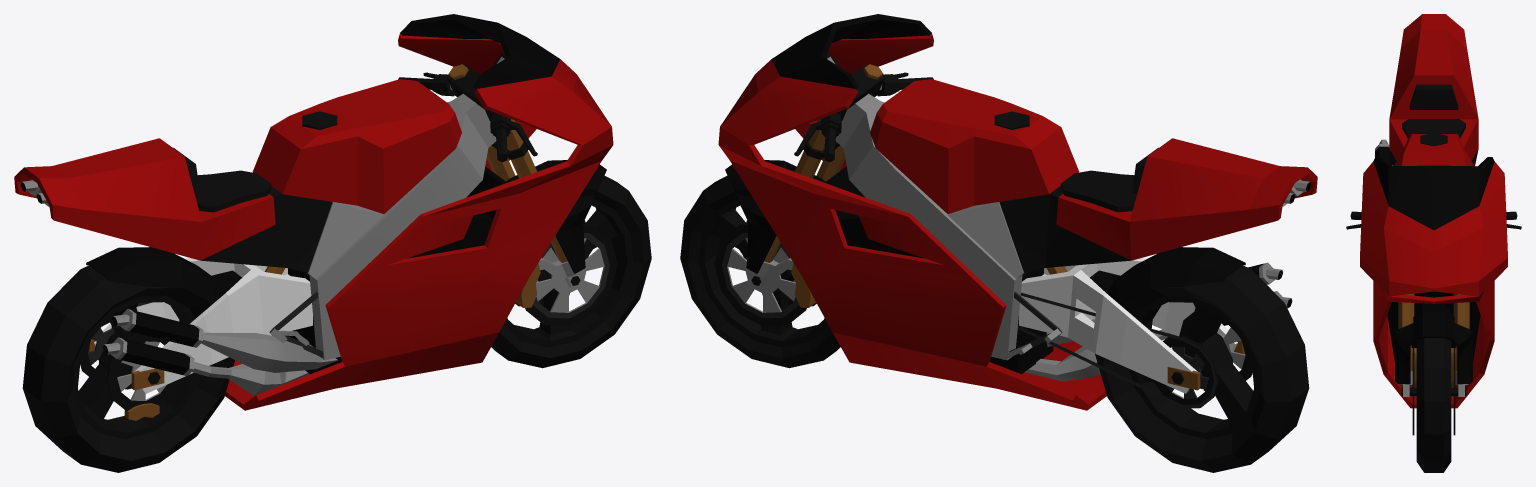
Rendered from Biker.fbx.
3 views of the same model, side by side, from view 1: azimuth 30°, elevation 25°; view 2: azimuth 150°, elevation 25°; view 3: azimuth 270°, elevation 25° (orthographic). The views are drawn at different scales.
Visible parts, largest first — view 1: Plane004, Box003, Box001, Tube002, Box004, Box002, Cylinder002, Tube004, Cylinder011, Tube005, Cylinder007, Cylinder013 (+6 smaller); view 2: Plane004, Box003, Box004, Box001, Tube002, Box002, Cylinder002, Tube004, Tube005, Cylinder007, Box009, Box005 (+4 smaller); view 3: Plane004, Box003, Tube004, Cylinder002, Box001, Box009, Box006, Box005, Cylinder007, Box007, Cylinder004, Cylinder001 (+1 smaller).
Boxes of the visible parts, x1=… form: Plane004: x1=225, y1=14, x2=613, y2=410; Box003: x1=14, y1=138, x2=332, y2=272; Box001: x1=252, y1=79, x2=461, y2=214; Tube002: x1=22, y1=265, x2=234, y2=472; Box004: x1=72, y1=258, x2=312, y2=439; Box002: x1=307, y1=93, x2=496, y2=360; Cylinder002: x1=449, y1=64, x2=633, y2=347; Tube004: x1=491, y1=175, x2=651, y2=368; Cylinder011: x1=112, y1=309, x2=337, y2=372; Tube005: x1=86, y1=247, x2=241, y2=304; Cylinder007: x1=515, y1=220, x2=617, y2=326; Cylinder013: x1=103, y1=337, x2=309, y2=395; Plane004: x1=718, y1=14, x2=1106, y2=410; Box003: x1=999, y1=138, x2=1317, y2=272; Box004: x1=1017, y1=258, x2=1259, y2=439; Box001: x1=870, y1=79, x2=1079, y2=214; Tube002: x1=1095, y1=265, x2=1309, y2=472; Box002: x1=835, y1=93, x2=1024, y2=360; Cylinder002: x1=698, y1=64, x2=882, y2=347; Tube004: x1=680, y1=175, x2=840, y2=368; Tube005: x1=1090, y1=247, x2=1245, y2=304; Cylinder007: x1=714, y1=220, x2=816, y2=326; Box009: x1=824, y1=166, x2=1053, y2=374; Box005: x1=1060, y1=170, x2=1136, y2=212; Plane004: x1=1360, y1=157, x2=1507, y2=408; Box003: x1=1389, y1=14, x2=1478, y2=165; Tube004: x1=1416, y1=338, x2=1451, y2=472; Cylinder002: x1=1395, y1=293, x2=1472, y2=396; Box001: x1=1394, y1=134, x2=1473, y2=165; Box009: x1=1387, y1=291, x2=1480, y2=361; Box006: x1=1409, y1=84, x2=1458, y2=109; Box005: x1=1402, y1=119, x2=1465, y2=138; Cylinder007: x1=1412, y1=346, x2=1455, y2=435; Box007: x1=1400, y1=348, x2=1467, y2=386; Cylinder004: x1=1346, y1=211, x2=1521, y2=229; Cylinder001: x1=1420, y1=132, x2=1447, y2=146.
Bounding box in the file's own units: 61.61 × 33.53 × 19.25.
